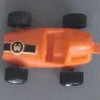naranja_oeste: (3, 13, 99, 86)
